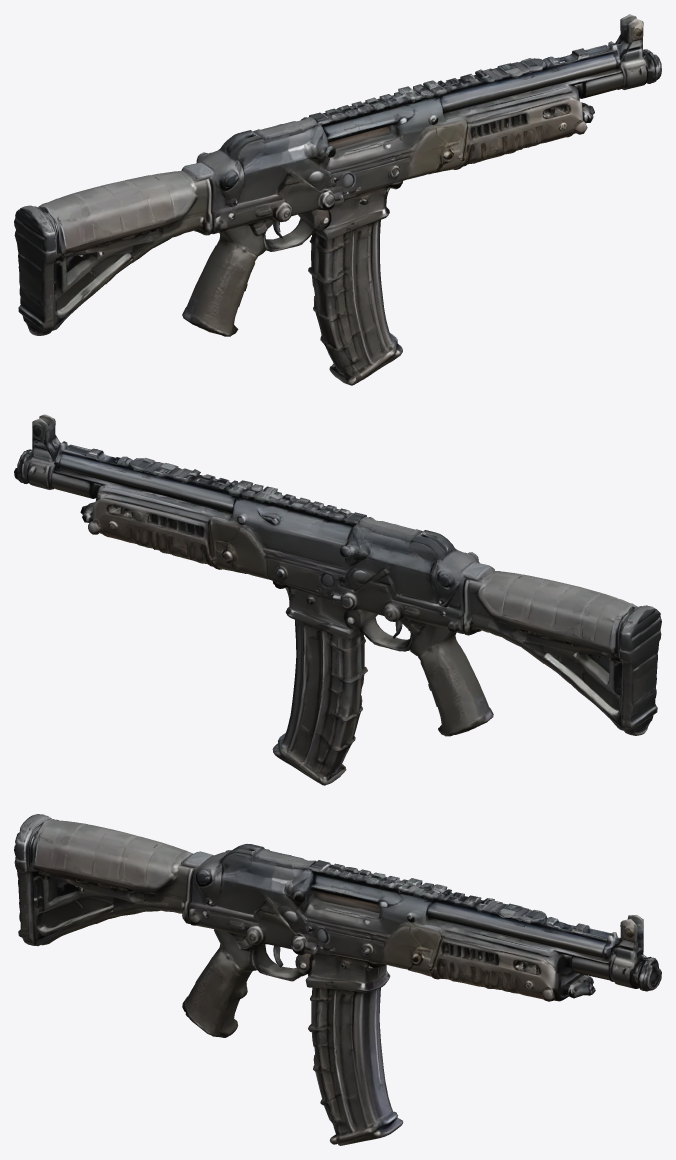
File: rn_drumauto.glb
The picture shows the model from 3 angles, top to bottom: view 1: azimuth 30°, elevation 25°; view 2: azimuth 150°, elevation 25°; view 3: azimuth 330°, elevation 25°; orthographic projection.
Parts seen in each view (by area): view 1: tripo_node_f9711c58-e94d-45e8-8cba-95a24b9400df; view 2: tripo_node_f9711c58-e94d-45e8-8cba-95a24b9400df; view 3: tripo_node_f9711c58-e94d-45e8-8cba-95a24b9400df.
Part boxes in pixels (x1,y1,x2,y2): tripo_node_f9711c58-e94d-45e8-8cba-95a24b9400df: (14, 14, 661, 385); tripo_node_f9711c58-e94d-45e8-8cba-95a24b9400df: (14, 414, 661, 785); tripo_node_f9711c58-e94d-45e8-8cba-95a24b9400df: (14, 814, 661, 1145).
Bounding box in the file's own units: 0.9808 × 0.4392 × 0.0982.
Materials: 1 (1 with a texture image).
